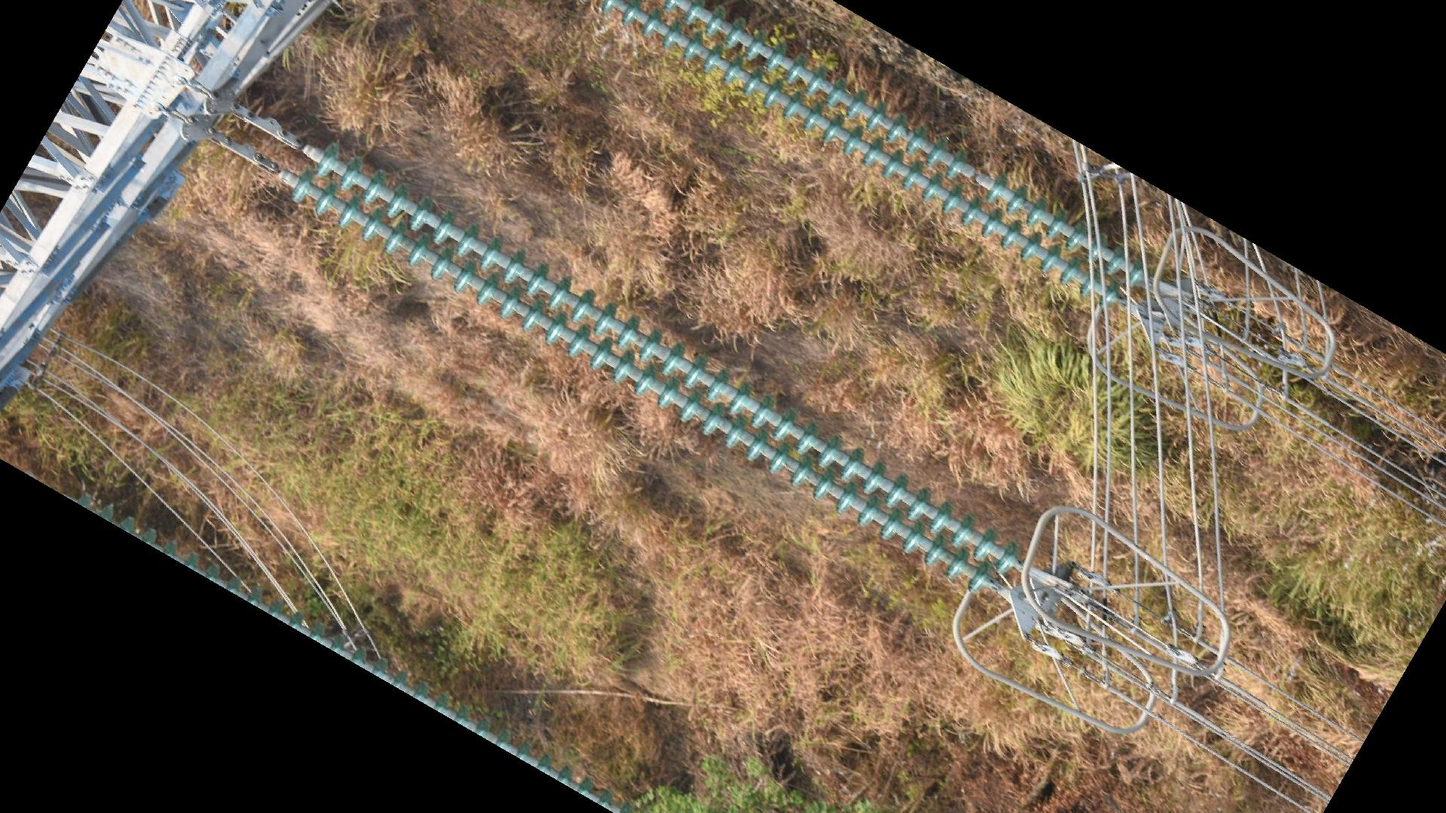insulator: (285, 139, 1027, 603), (593, 1, 1149, 315)
insulator_stringdrop: (943, 145, 1013, 208)
